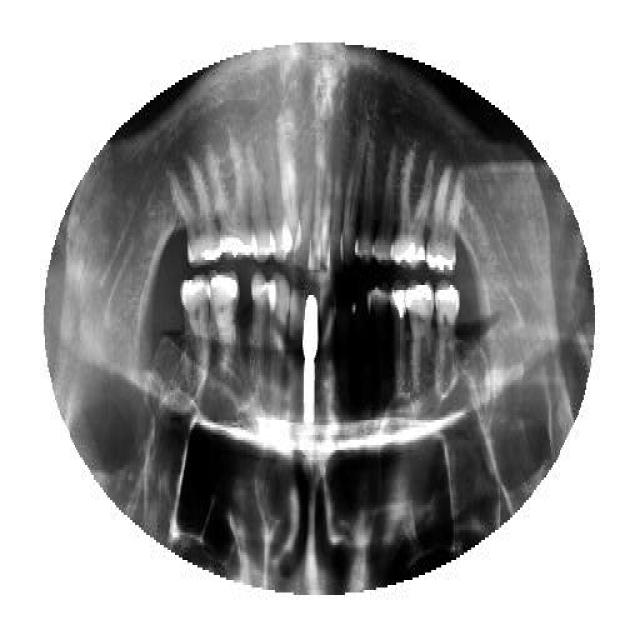Fillings: (206, 135, 254, 257), (169, 158, 219, 268), (392, 150, 432, 270), (426, 167, 464, 275), (209, 268, 239, 368), (406, 280, 434, 382), (434, 280, 460, 378)
Implant: (301, 292, 321, 428)
